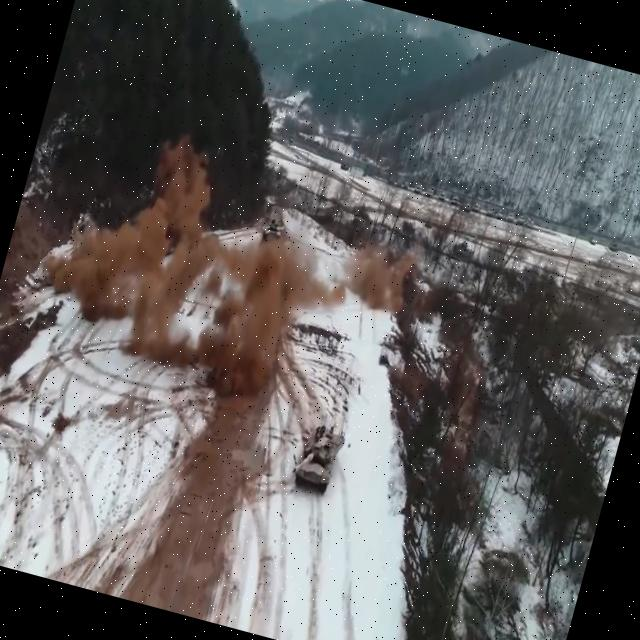korea tank: (286, 408, 351, 498)
